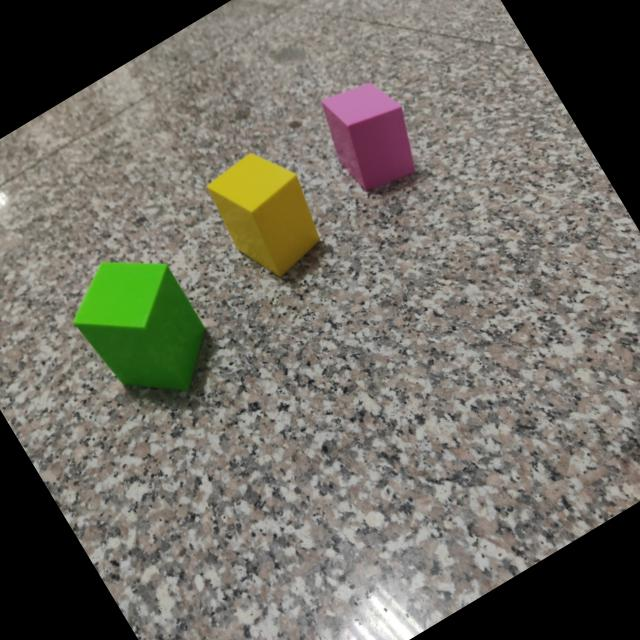green: (73, 260, 207, 394)
pink: (323, 84, 418, 196)
yellow: (207, 153, 322, 278)
